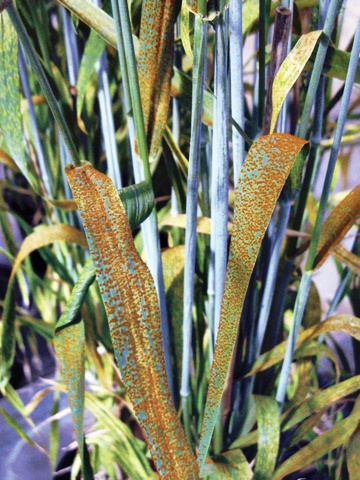Leaf Rust: (69, 171, 195, 478), (208, 132, 305, 392)
